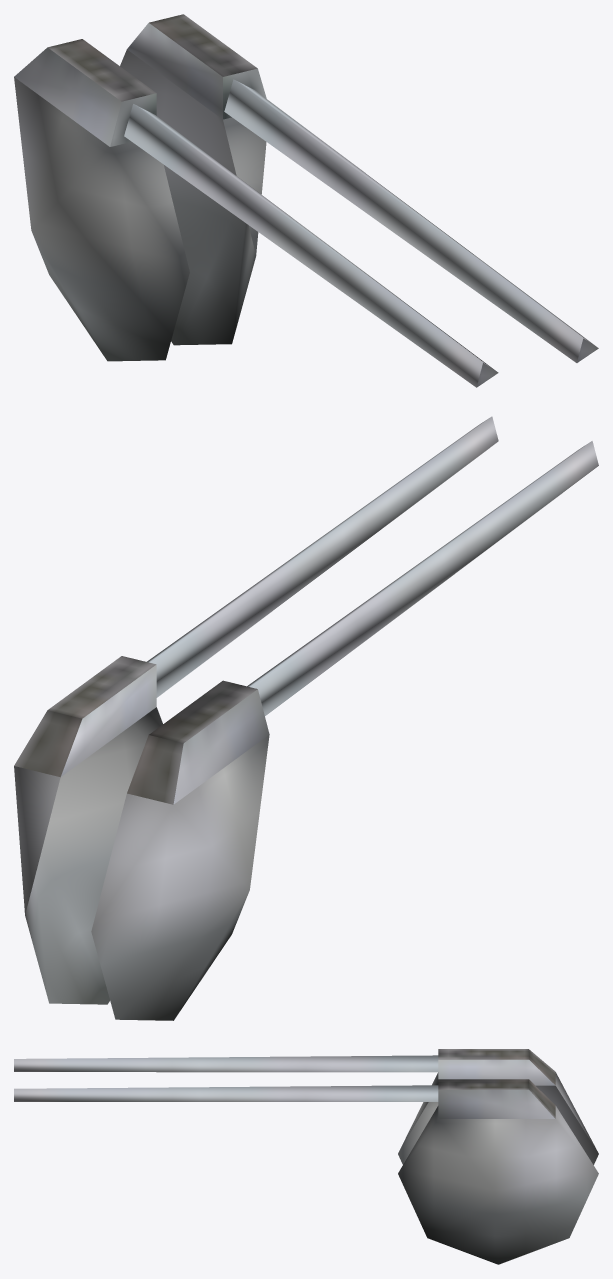
File: lambda_weapon1_l3.fbx
3 views of the same model, one above another, from view 1: azimuth 30°, elevation 25°; view 2: azimuth 150°, elevation 25°; view 3: azimuth 270°, elevation 25° (orthographic). The views are drawn at different scales.
Parts seen in each view (by area): view 1: mesh_node; view 2: mesh_node; view 3: mesh_node.
Part boxes in pixels (x1=…): mesh_node: x1=14, y1=14, x2=598, y2=387; mesh_node: x1=14, y1=416, x2=598, y2=1020; mesh_node: x1=14, y1=1049, x2=598, y2=1264.
Bounding box in the file's own units: 1.39 × 1.85 × 5.28.
